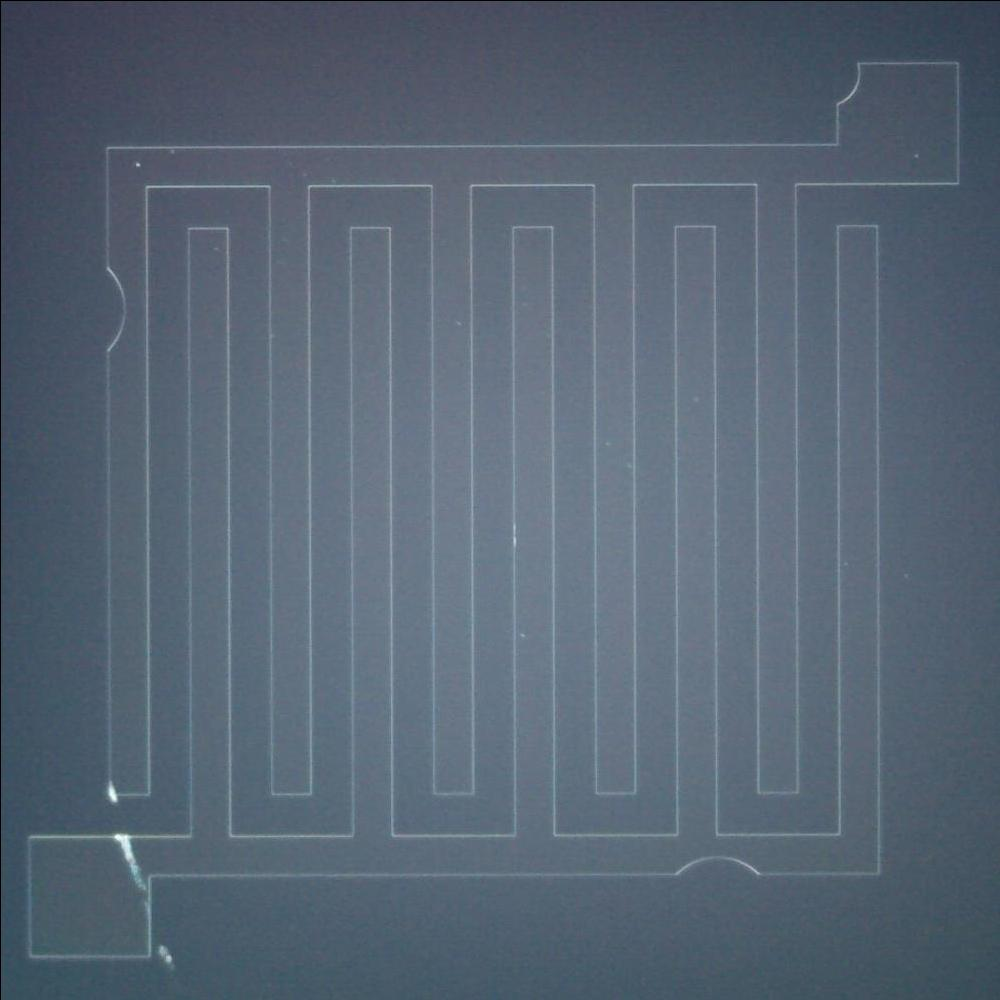curve circuit: (654, 847, 775, 886), (91, 250, 134, 359), (816, 51, 880, 120)
dot: (124, 148, 148, 176)
scratch: (112, 829, 148, 893)
